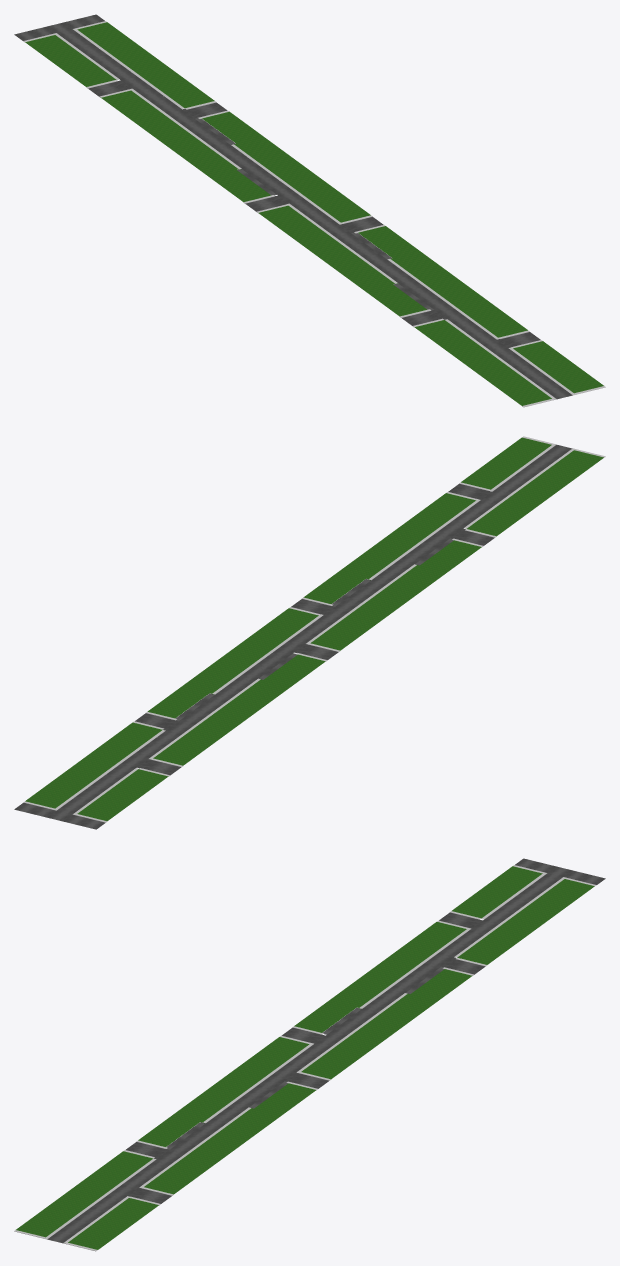
Rendered from Floor_03.FBX.
3 views of the same model, one above another, from view 1: azimuth 30°, elevation 25°; view 2: azimuth 150°, elevation 25°; view 3: azimuth 330°, elevation 25° (orthographic).
Visible parts, largest first — view 1: patch_03; view 2: patch_03; view 3: patch_03.
Part boxes in pixels (box(x1,y1,x2,y2)): patch_03: box(14, 14, 605, 407); patch_03: box(14, 436, 605, 829); patch_03: box(14, 858, 605, 1251).
Size of the model in its own units: 2800 by 10.09 by 29980.
